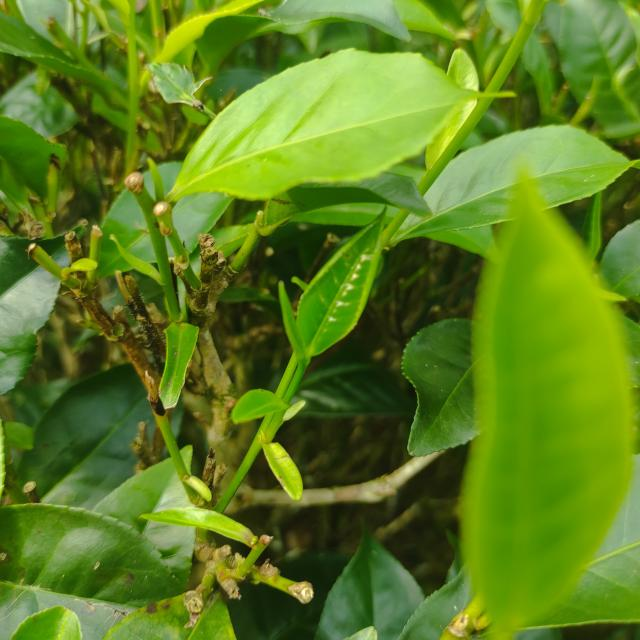unopened_leaf: (273, 277, 315, 376), (108, 232, 171, 290), (143, 160, 171, 208)
